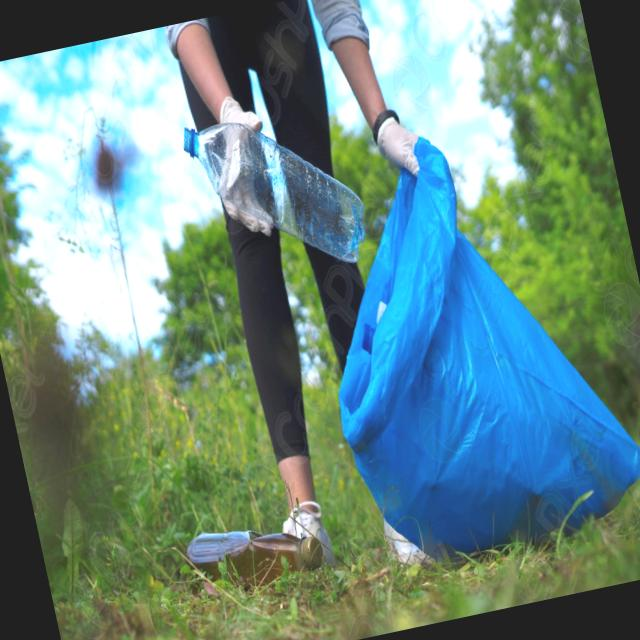garbage: (228, 119, 640, 600)
